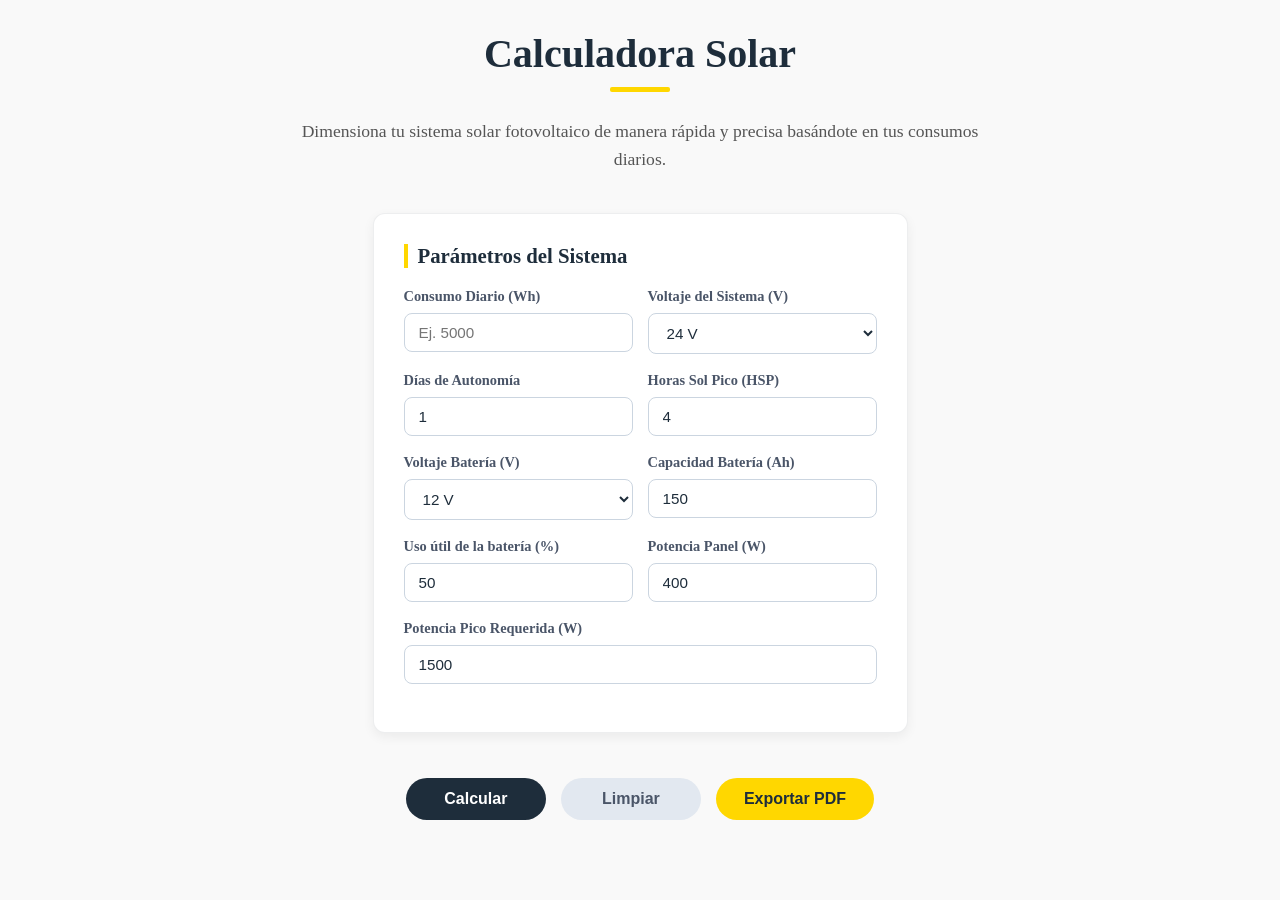
Test: CalculadoraSolar › exportar PDF › abre el modal de datos del cliente y se puede cancelar
The image size is (1280, 900).
(page scrolled)
Click the button "Exportar PDF" at (795,800), box [716, 778, 874, 820]
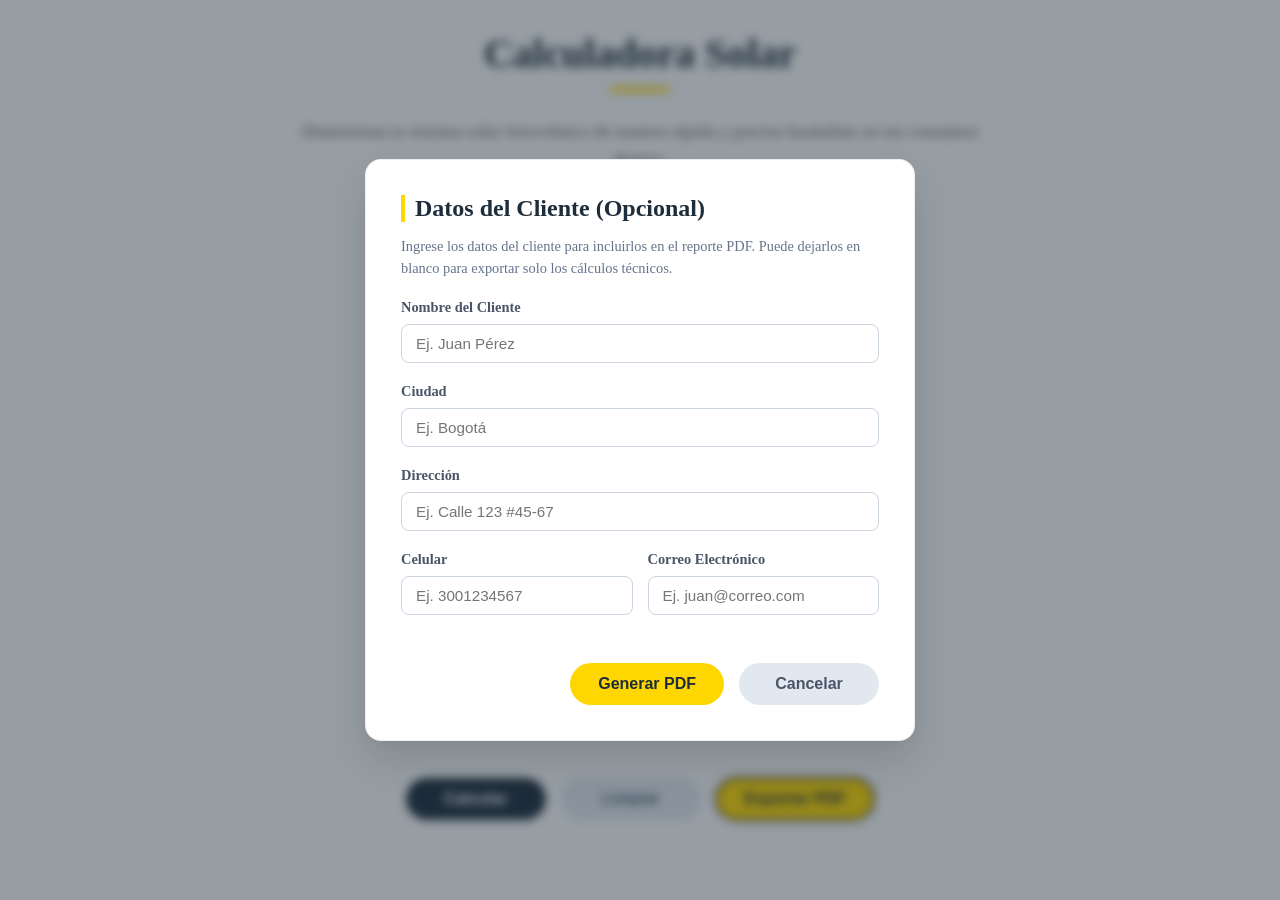
expect the heading "Datos del Cliente (Opcional)" is shown: met, box [401, 195, 879, 222]
Click the button "Cancelar" at (809,684), box [739, 663, 879, 705]
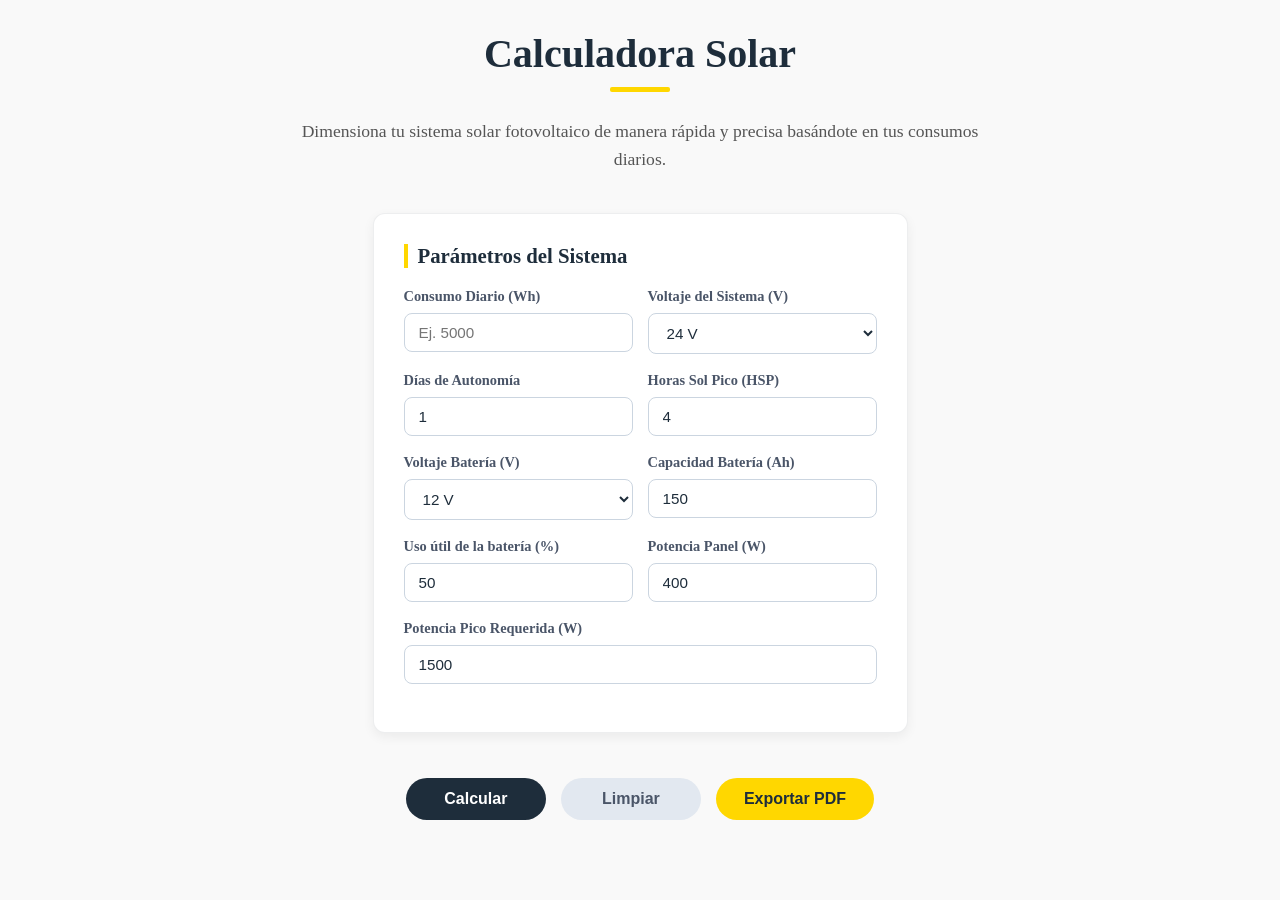
expect the heading "Datos del Cliente (Opcional)" is gone: met
